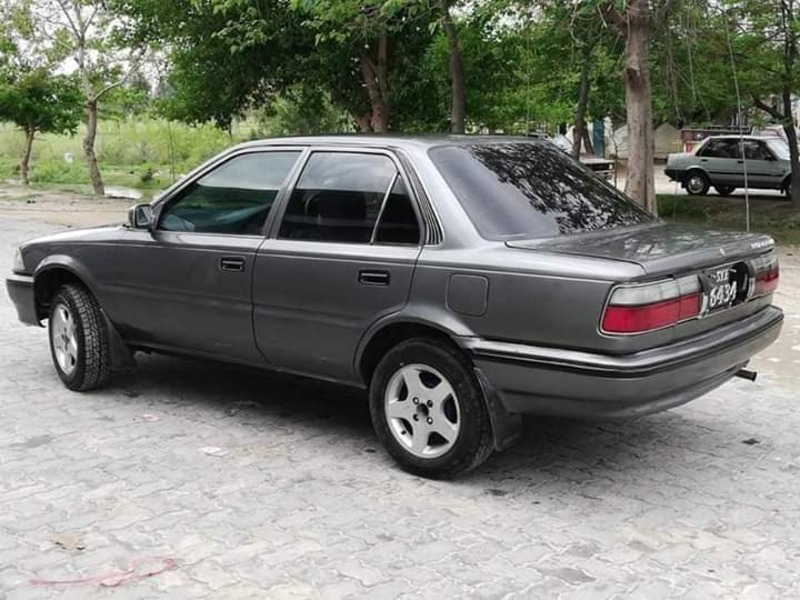License Plate: (702, 261, 748, 320)
